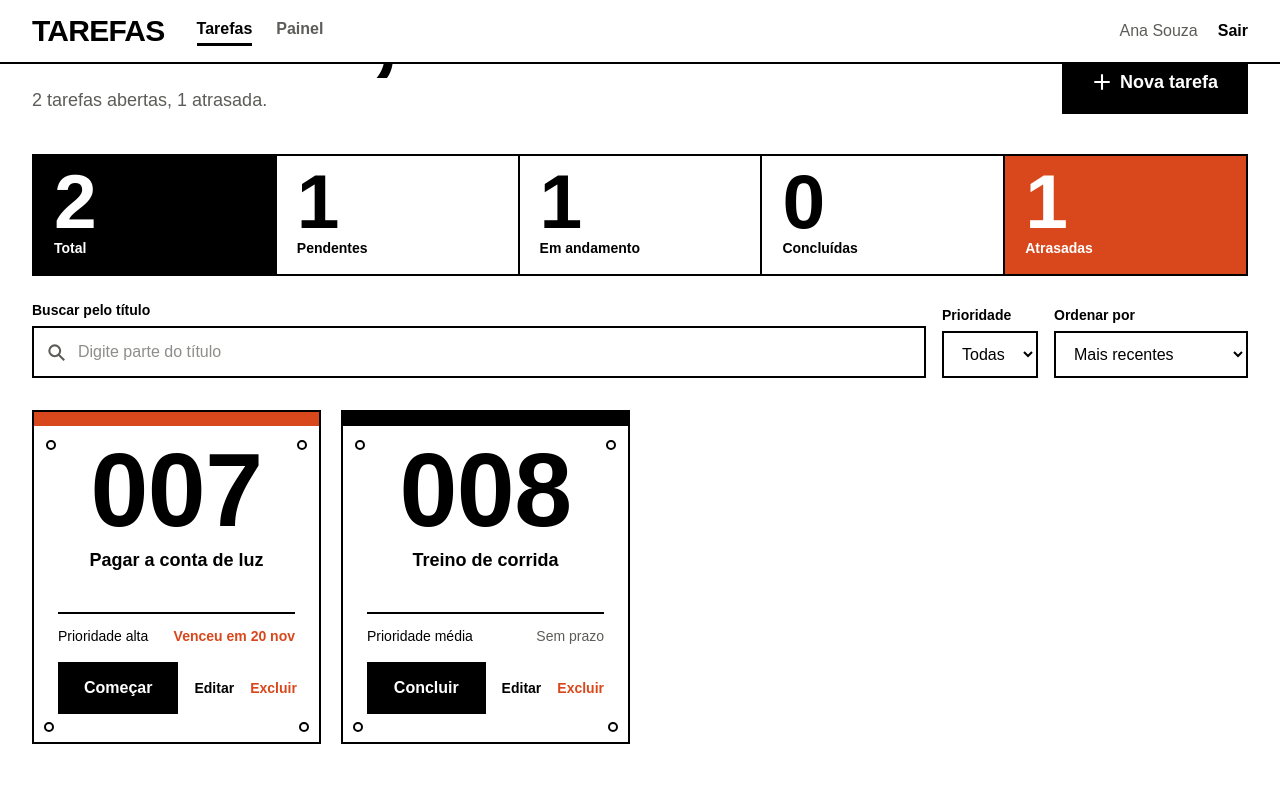
Scenario: página de tarefas › pede confirmação antes de excluir
(page scrolled)
What coordinates should you click on to do the following:
click the button with aria-label "Excluir a tarefa 007"
I would click on:
 (274, 688)
Its box is [250,678,297,698].
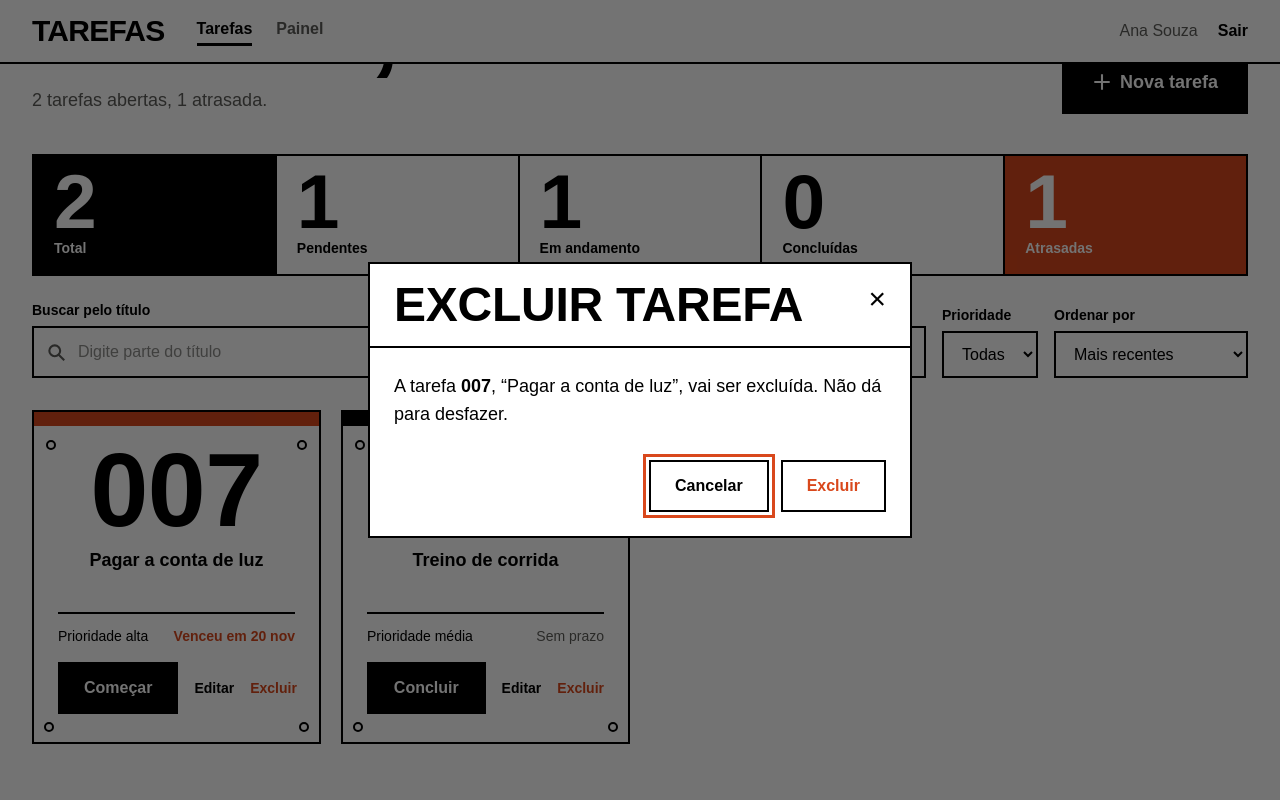
Result: the text "Pagar a conta de luz" is shown at [507,376,672,396]
What coordinates should you click on to do the following:
click the button "Excluir"
I would click on:
 (833, 486)
Its box is [781,460,886,512].
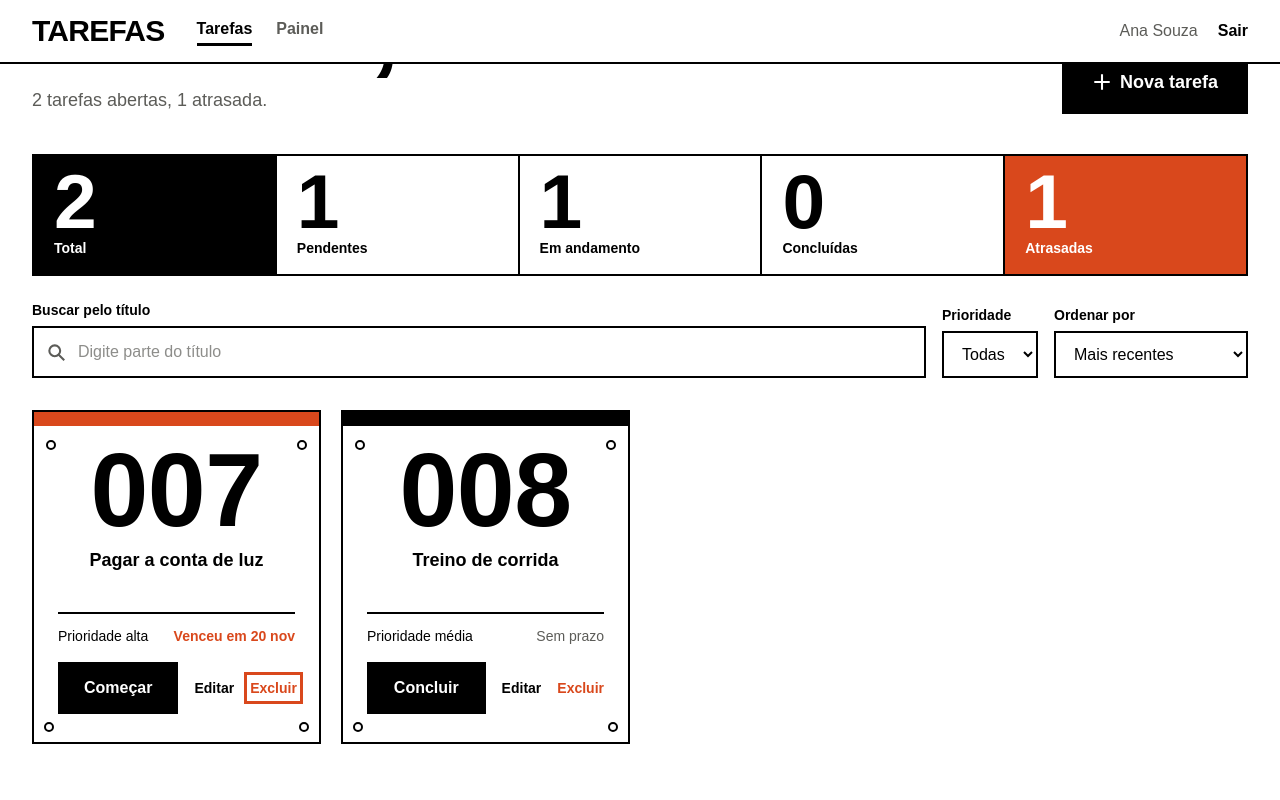
Result: the dialog is gone
